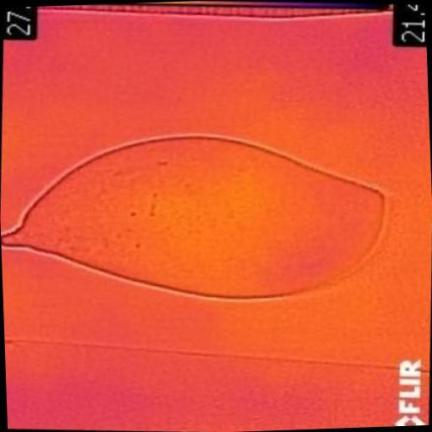mango: (0, 136, 384, 296)
